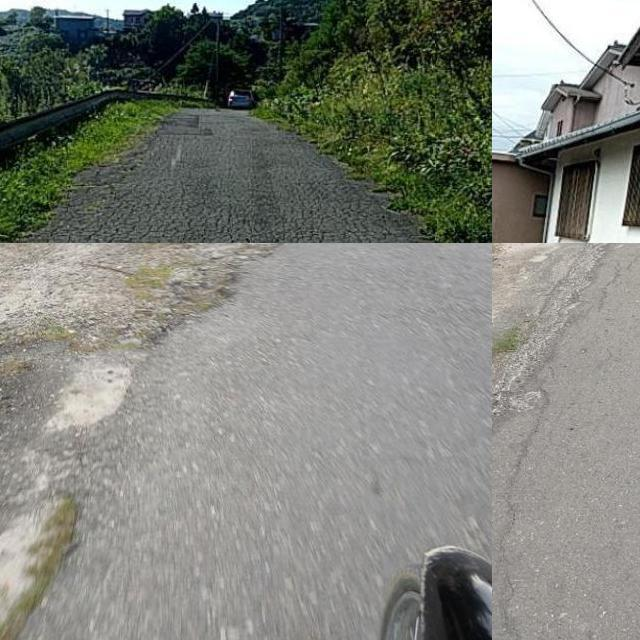Pinggir: (0, 243, 298, 640)
Retak Buaya: (20, 174, 428, 243)
